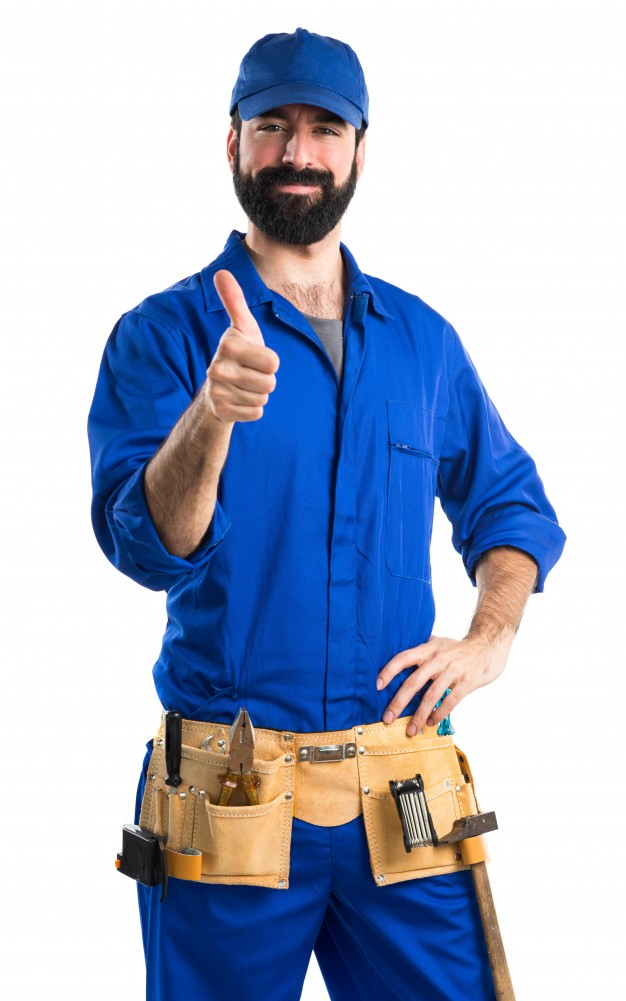thumbsup: (205, 269, 281, 421)
